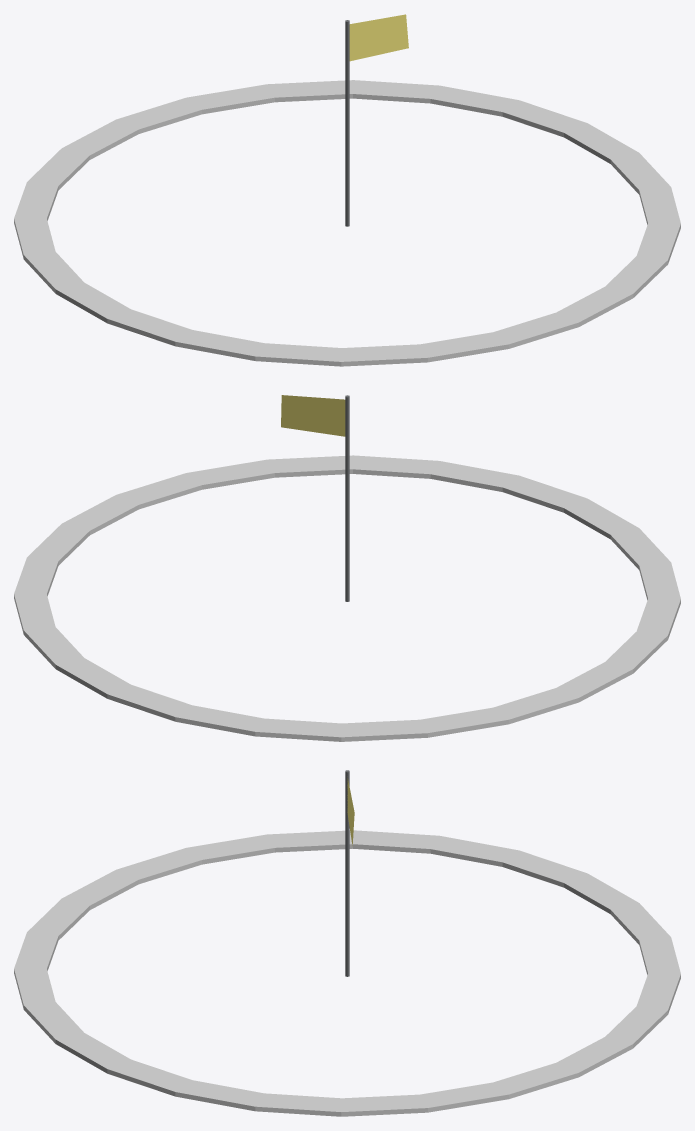
File: range_target_02.glb
The picture shows the model from 3 angles, top to bottom: view 1: azimuth 30°, elevation 25°; view 2: azimuth 150°, elevation 25°; view 3: azimuth 270°, elevation 25°; orthographic projection.
Visible parts, largest first — view 1: Range_target_02; view 2: Range_target_02; view 3: Range_target_02.
Part boxes in pixels (x1,y1,x2,y2): Range_target_02: [14, 14, 680, 366]; Range_target_02: [14, 395, 680, 741]; Range_target_02: [14, 770, 680, 1116].
Bounding box in the file's own units: 6.5 × 2.2 × 6.5.
